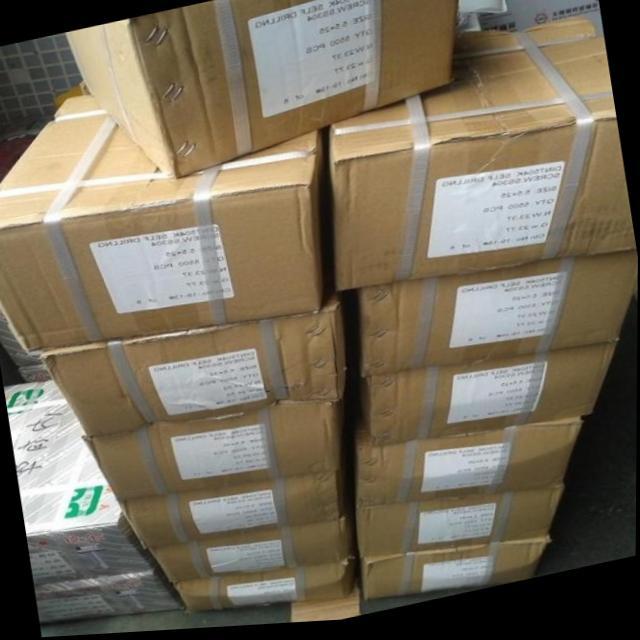box: (0, 97, 334, 354), (330, 22, 637, 294), (63, 0, 459, 180), (44, 299, 357, 436), (359, 256, 638, 381), (5, 383, 155, 584), (353, 386, 583, 513), (85, 402, 353, 503), (367, 350, 617, 449), (119, 457, 359, 553), (150, 513, 361, 587), (357, 490, 561, 562), (361, 546, 546, 604), (178, 566, 361, 615), (36, 564, 186, 622), (0, 305, 49, 369), (19, 366, 53, 382)
